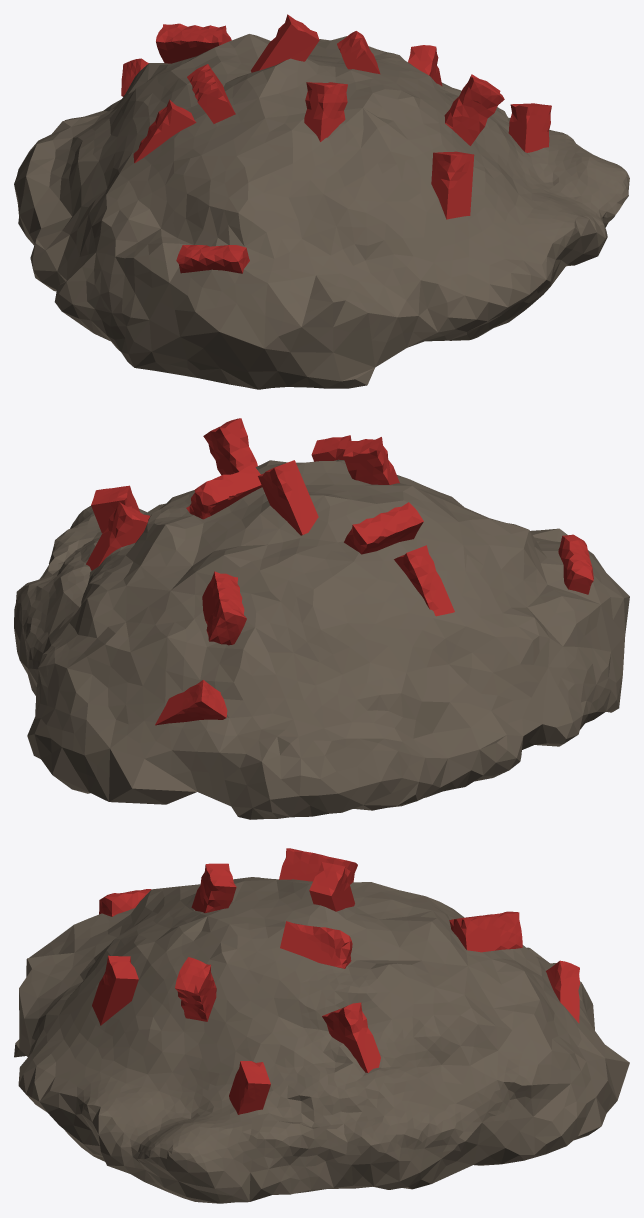
Rendered from haufen.fbx.
The picture shows the model from 3 angles, top to bottom: view 1: azimuth 30°, elevation 25°; view 2: azimuth 150°, elevation 25°; view 3: azimuth 270°, elevation 25°; orthographic projection. The views are drawn at different scales.
Parts seen in each view (by area): view 1: Icosphere, Cube.006, Cube.011, Cube.002, Cube.004, Cube.010, Cube.003, Cube.005, Cube.008, Cube.009, Cube.007, Cube; view 2: Icosphere, Cube.010, Cube.002, Cube.008, Cube.007, Cube.001, Cube.009, Cube.004, Cube.011, Cube, Cube.003, Cube.005 (+1 smaller); view 3: Icosphere, Cube.002, Cube.007, Cube, Cube.006, Cube.011, Cube.005, Cube.004, Cube.010, Cube.008, Cube.001, Cube.003.
Boxes of the visible parts, x1=… form: Icosphere: x1=14, y1=34, x2=629, y2=389; Cube.006: x1=431, y1=151, x2=474, y2=219; Cube.011: x1=444, y1=74, x2=504, y2=145; Cube.002: x1=156, y1=23, x2=231, y2=63; Cube.004: x1=304, y1=82, x2=347, y2=141; Cube.010: x1=251, y1=14, x2=319, y2=72; Cube.003: x1=176, y1=245, x2=249, y2=273; Cube.005: x1=508, y1=103, x2=551, y2=152; Cube.008: x1=187, y1=64, x2=235, y2=123; Cube.009: x1=133, y1=99, x2=196, y2=163; Cube.007: x1=337, y1=31, x2=380, y2=74; Cube: x1=408, y1=45, x2=442, y2=86; Icosphere: x1=14, y1=459, x2=629, y2=819; Cube.010: x1=258, y1=460, x2=318, y2=535; Cube.002: x1=202, y1=571, x2=246, y2=645; Cube.008: x1=344, y1=502, x2=423, y2=554; Cube.007: x1=186, y1=464, x2=262, y2=519; Cube.001: x1=155, y1=680, x2=227, y2=725; Cube.009: x1=394, y1=545, x2=454, y2=616; Cube.004: x1=343, y1=437, x2=399, y2=484; Cube.011: x1=203, y1=418, x2=257, y2=475; Cube: x1=86, y1=501, x2=149, y2=570; Cube.003: x1=558, y1=534, x2=593, y2=594; Cube.005: x1=91, y1=485, x2=139, y2=533; Icosphere: x1=14, y1=877, x2=629, y2=1203; Cube.002: x1=449, y1=911, x2=522, y2=952; Cube.007: x1=280, y1=921, x2=352, y2=968; Cube: x1=322, y1=1002, x2=380, y2=1072; Cube.006: x1=92, y1=955, x2=138, y2=1025; Cube.011: x1=175, y1=957, x2=216, y2=1021; Cube.005: x1=229, y1=1061, x2=270, y2=1114; Cube.004: x1=191, y1=863, x2=236, y2=912; Cube.010: x1=309, y1=862, x2=354, y2=911; Cube.008: x1=279, y1=848, x2=357, y2=884; Cube.001: x1=546, y1=960, x2=580, y2=1023; Cube.003: x1=99, y1=889, x2=151, y2=916.
Bounding box in the file's own units: 278 × 125 × 283.
